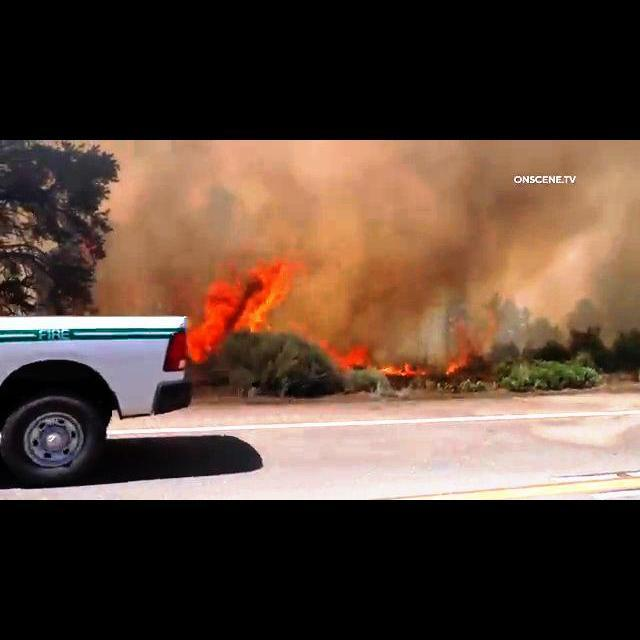Fire: (194, 262, 300, 378), (317, 334, 498, 386)
Smoke: (105, 142, 637, 264), (296, 264, 640, 336), (95, 266, 193, 316)
